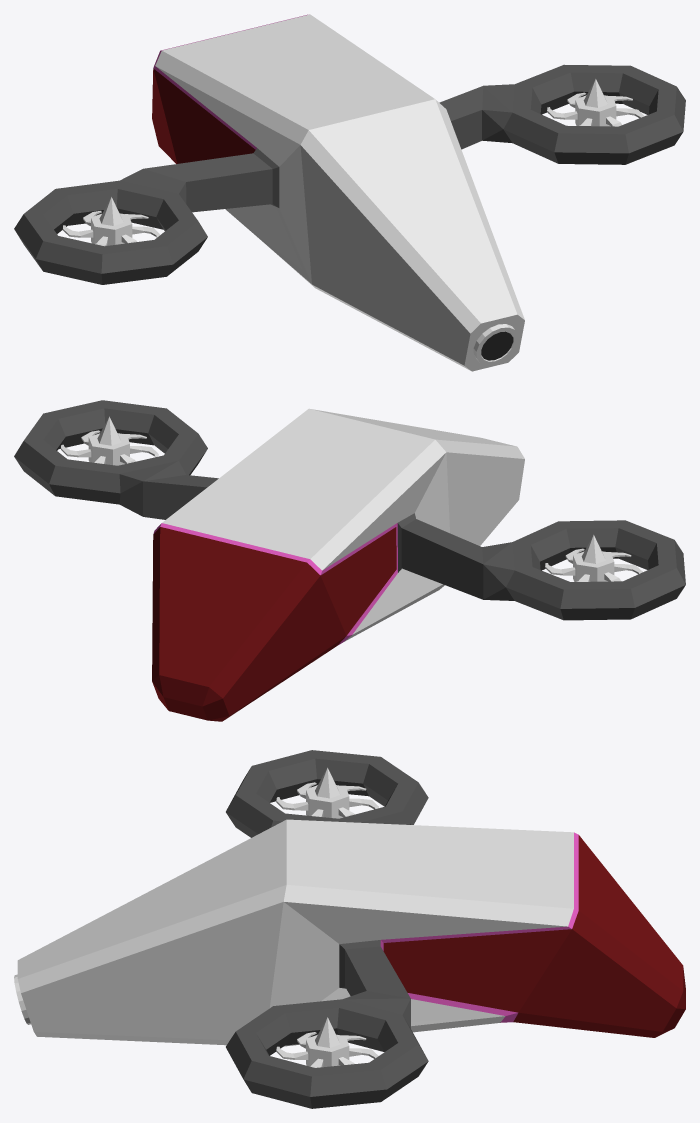
File: drone_friendly.glb
The picture shows the model from 3 angles, top to bottom: view 1: azimuth 30°, elevation 25°; view 2: azimuth 150°, elevation 25°; view 3: azimuth 270°, elevation 25°; orthographic projection. The views are drawn at different scales.
Visible parts, largest first — view 1: Cylinder.003; view 2: Cylinder.003; view 3: Cylinder.003.
Boxes of the visible parts, left/top/right/bottom form: Cylinder.003: left=14, top=14, right=685, bottom=371; Cylinder.003: left=14, top=400, right=685, bottom=721; Cylinder.003: left=14, top=750, right=685, bottom=1108.
Bounding box in the file's own units: 2.82 × 0.6889 × 2.39.
